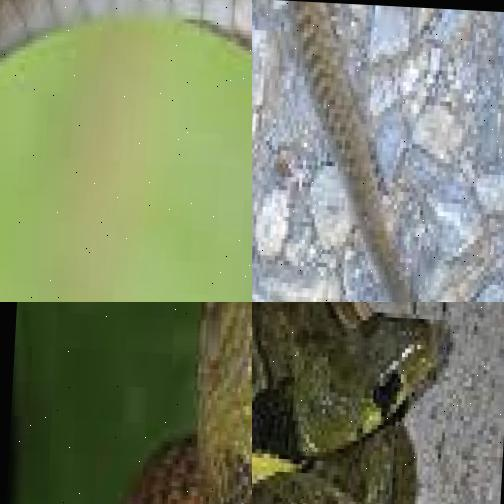snake: (0, 0, 252, 302), (252, 0, 472, 302), (0, 302, 252, 504), (252, 302, 480, 504)
